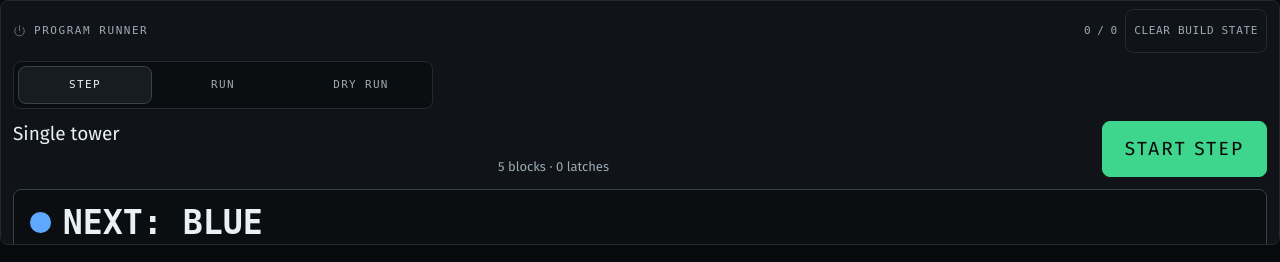
RunnerPanel › stops and renders both commands verbatim when mocked selection disagrees
This screenshot has width=1280, height=262.
Click the button "RUN": (223, 85) [156,66,290,104]
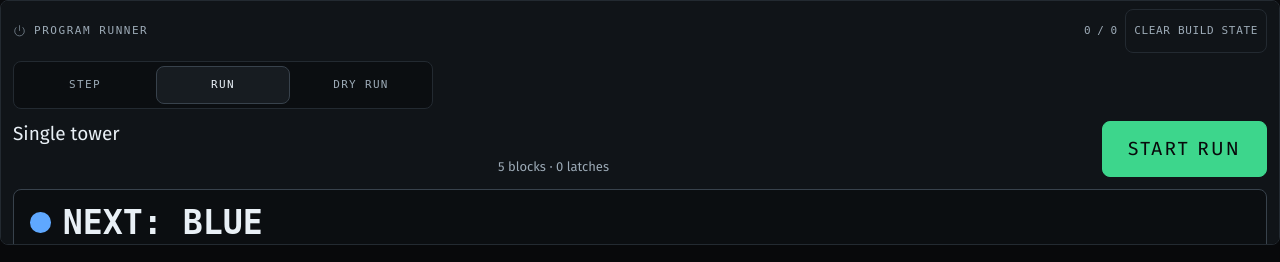
Click the button "START RUN": (1184, 149) [1102,121,1267,177]
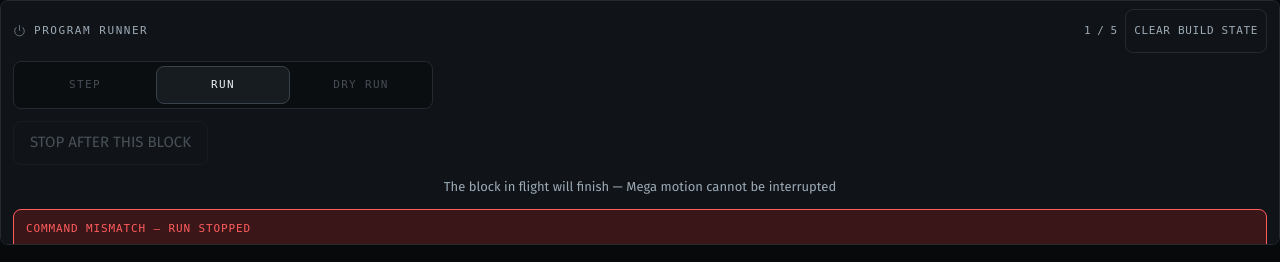
Expected: the text "COMMAND MISMATCH — RUN STOPPED" is shown, [26,222,251,234]
